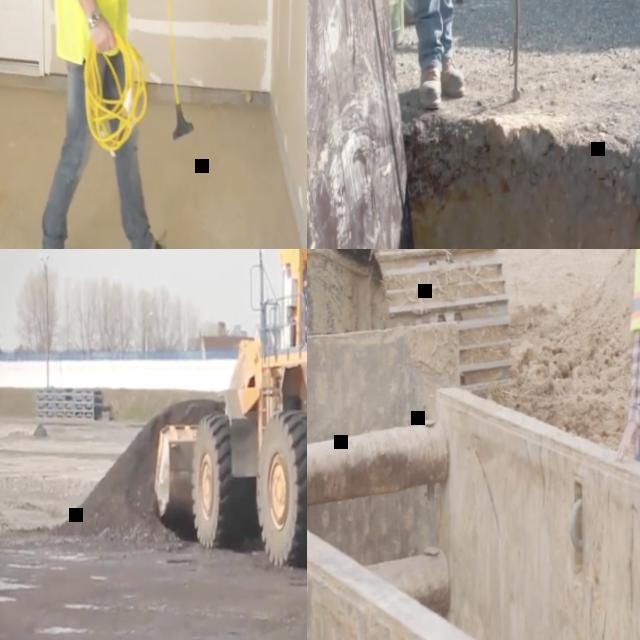Person: (29, 0, 193, 249), (401, 0, 468, 109), (381, 0, 417, 28), (302, 284, 307, 305)
machinery: (143, 249, 307, 574), (307, 249, 516, 415)
